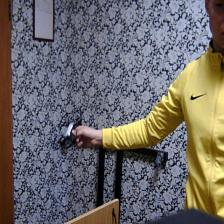drone: (46, 111, 91, 155)
